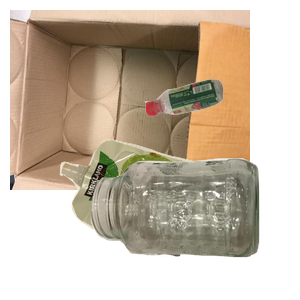cardboard: (10, 10, 250, 190)
glass: (88, 156, 300, 300)
plastic: (142, 77, 300, 186)
trash: (57, 137, 257, 300)
